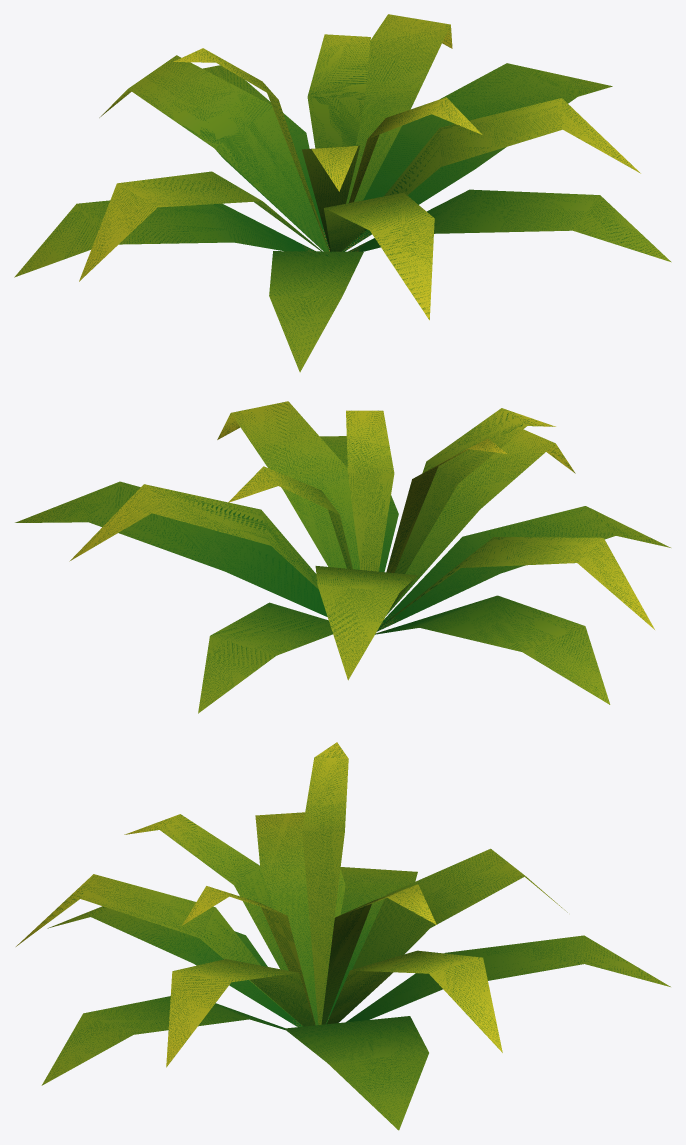
File: Plant_01.fbx
3 views of the same model, one above another, from view 1: azimuth 30°, elevation 25°; view 2: azimuth 150°, elevation 25°; view 3: azimuth 270°, elevation 25° (orthographic).
Visible parts, largest first — view 1: Plant1; view 2: Plant1; view 3: Plant1.
Part boxes in pixels (bbox=[...]): Plant1: bbox=[14, 14, 671, 372]; Plant1: bbox=[15, 401, 670, 713]; Plant1: bbox=[16, 742, 670, 1130].
Size of the model in its own units: 153 by 55.35 by 146.
